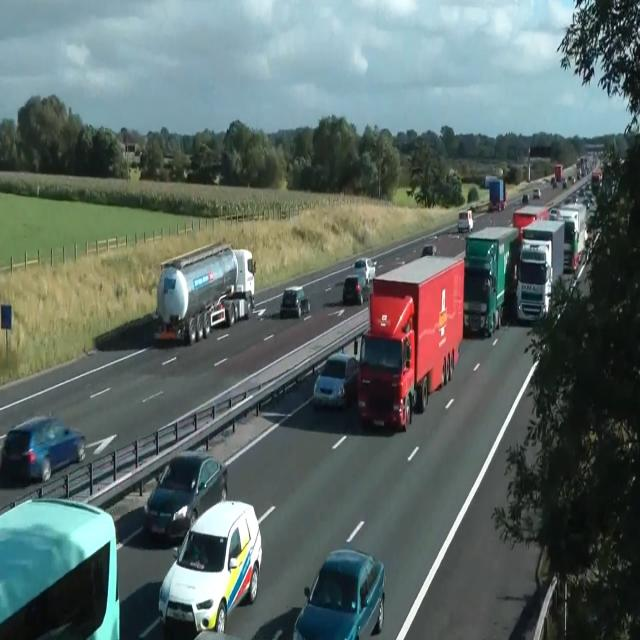bus: (293, 548, 385, 639), (143, 452, 228, 544), (0, 414, 86, 484), (313, 352, 359, 409), (279, 286, 310, 318), (353, 257, 377, 283), (193, 629, 241, 639), (421, 244, 437, 256), (533, 188, 541, 199), (551, 176, 557, 188), (522, 193, 528, 203), (561, 178, 567, 188)
jeep: (0, 494, 120, 638), (158, 498, 262, 634), (342, 273, 367, 304)
minibus: (355, 253, 465, 431), (152, 241, 255, 346), (462, 225, 520, 337), (516, 218, 564, 324), (548, 204, 580, 273), (232, 248, 255, 311), (513, 205, 549, 238), (484, 174, 506, 212), (457, 209, 473, 233), (591, 167, 603, 194), (554, 164, 562, 182)
